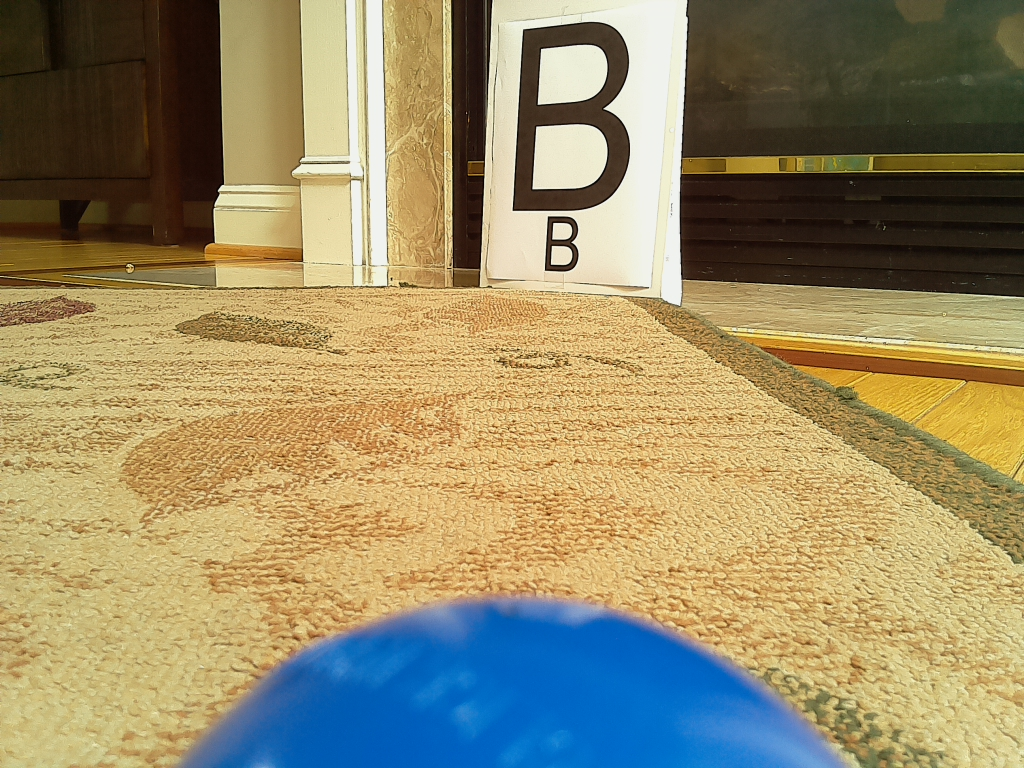letter: (513, 21, 631, 212)
